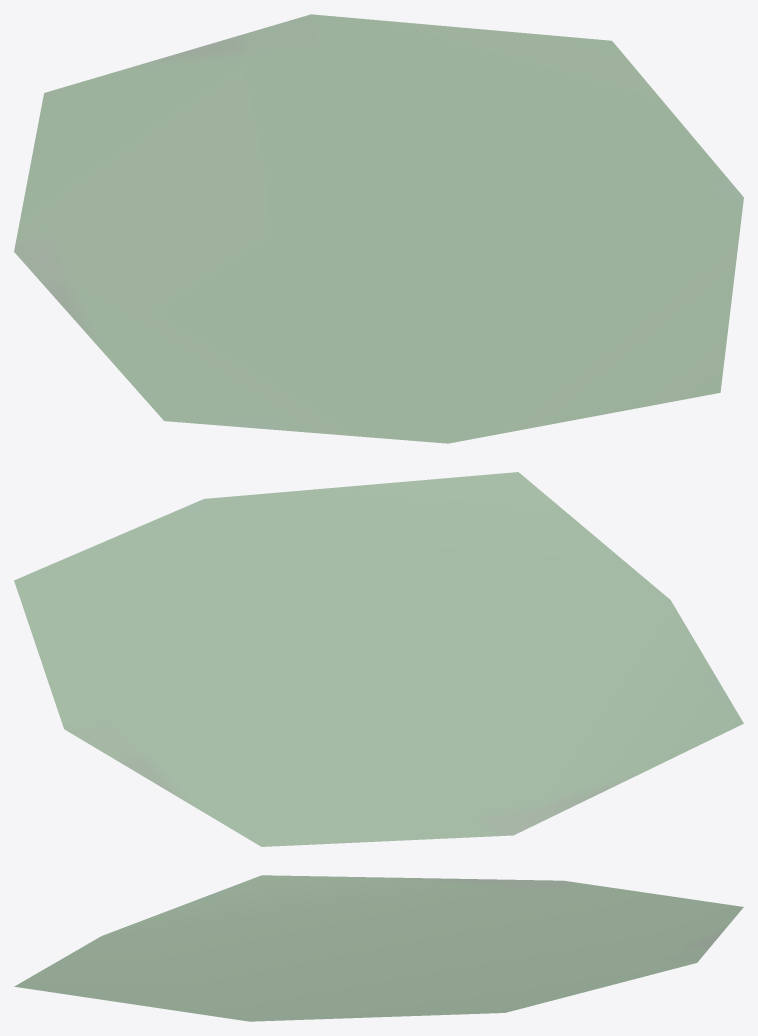
File: TROLLHOLE02_HOLECAP123.fbx
3 views of the same model, one above another, from view 1: azimuth 30°, elevation 25°; view 2: azimuth 150°, elevation 25°; view 3: azimuth 270°, elevation 25° (orthographic). The views are drawn at different scales.
Visible parts, largest first — view 1: TROLLHOLE02_HOLECAP123; view 2: TROLLHOLE02_HOLECAP123; view 3: TROLLHOLE02_HOLECAP123.
Part boxes in pixels (x1,y1,x2,y2): TROLLHOLE02_HOLECAP123: (14,14,743,443); TROLLHOLE02_HOLECAP123: (14,472,743,846); TROLLHOLE02_HOLECAP123: (14,875,743,1021).
Bounding box in the file's own units: 15729 × 2911 × 21260.
Materials: 1 (1 with a texture image).
